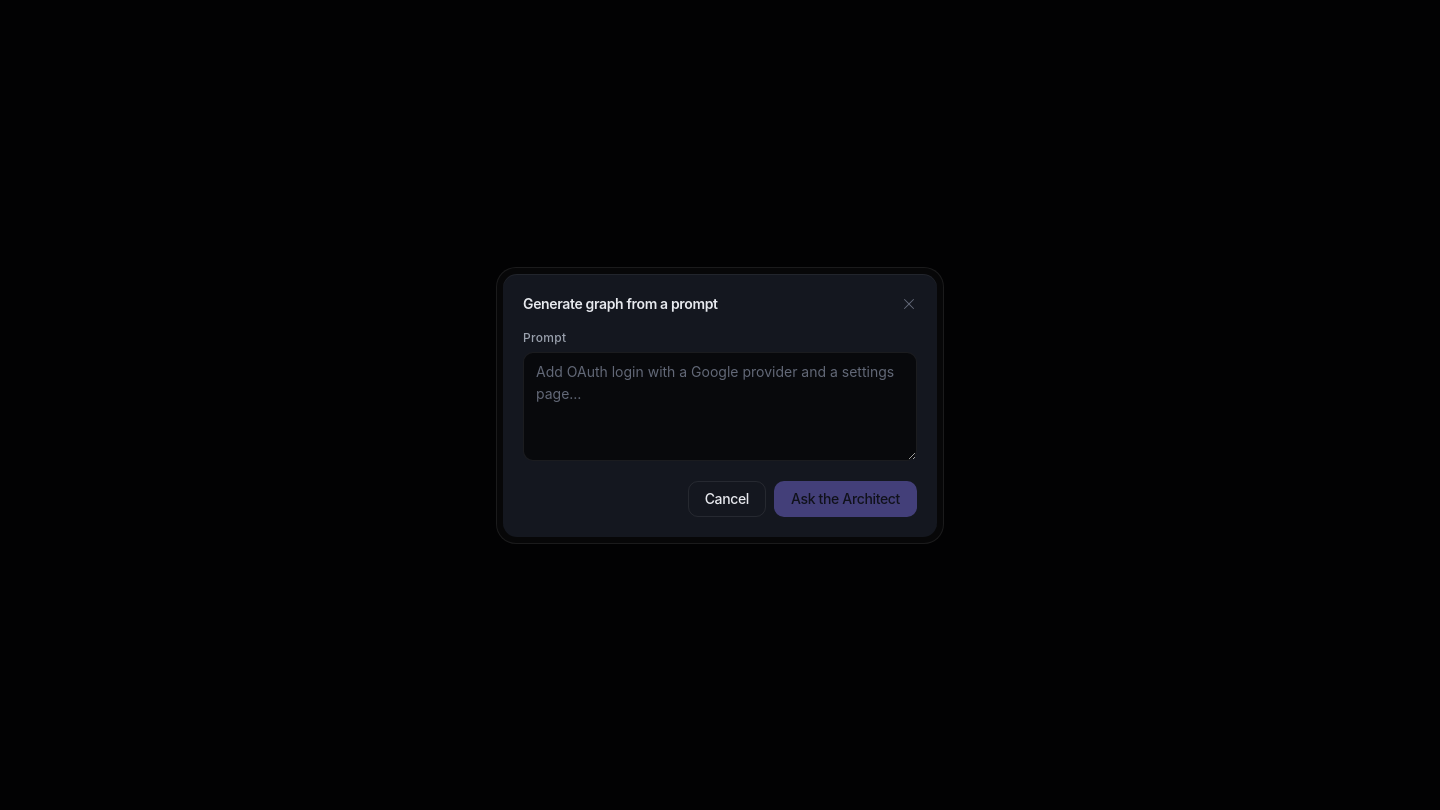
Test: PlanPanel (Socratic two-step) › on a LOCAL planner failure, surfaces the truthful local reason (NOT the Architect API text)
Type "x" into the text box with placeholder "Add OAuth login with a Google provider and a settings page…".
click(720, 406); type("x")  # box [523, 352, 917, 460]
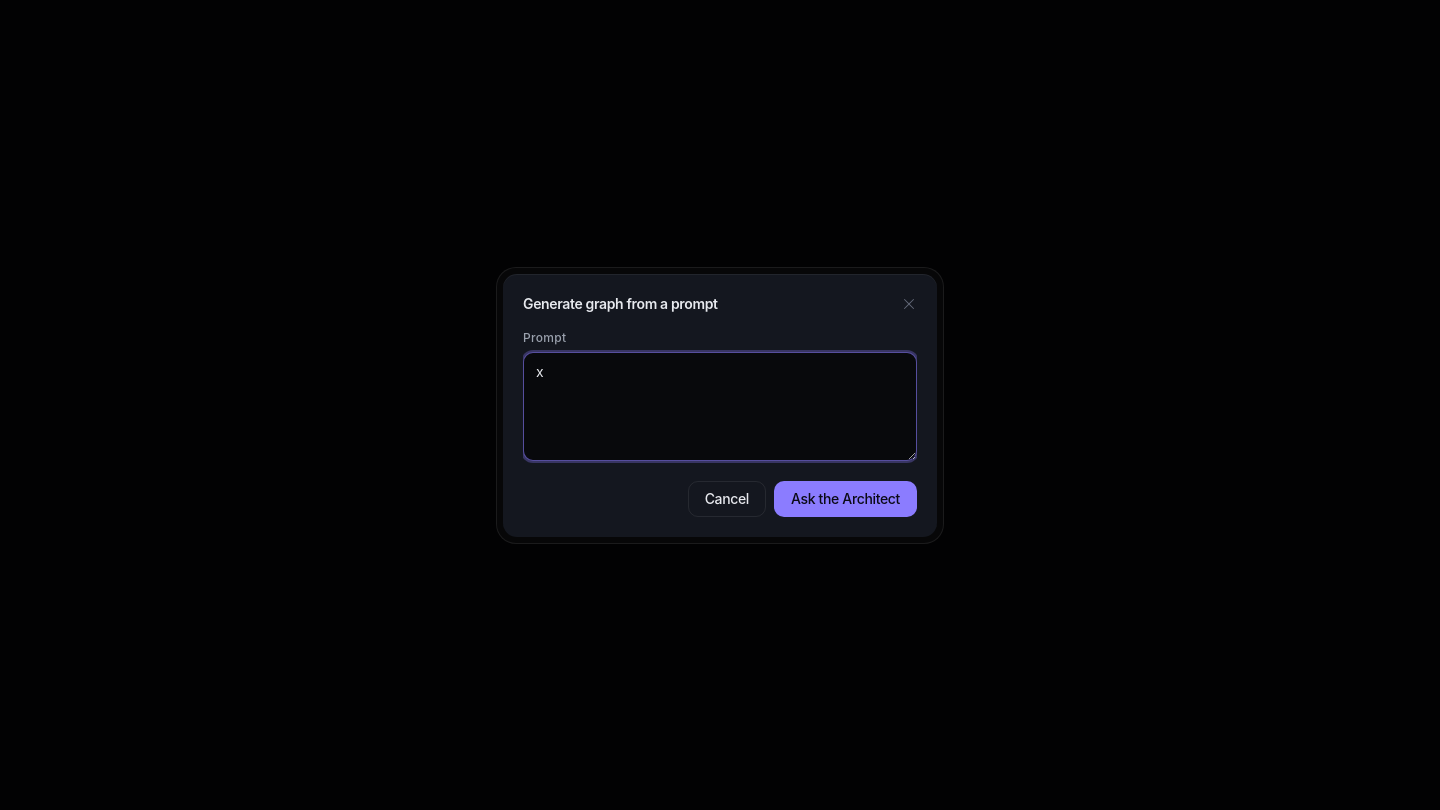
Click the button "Ask the Architect".
click(846, 498)  # box [774, 480, 917, 516]
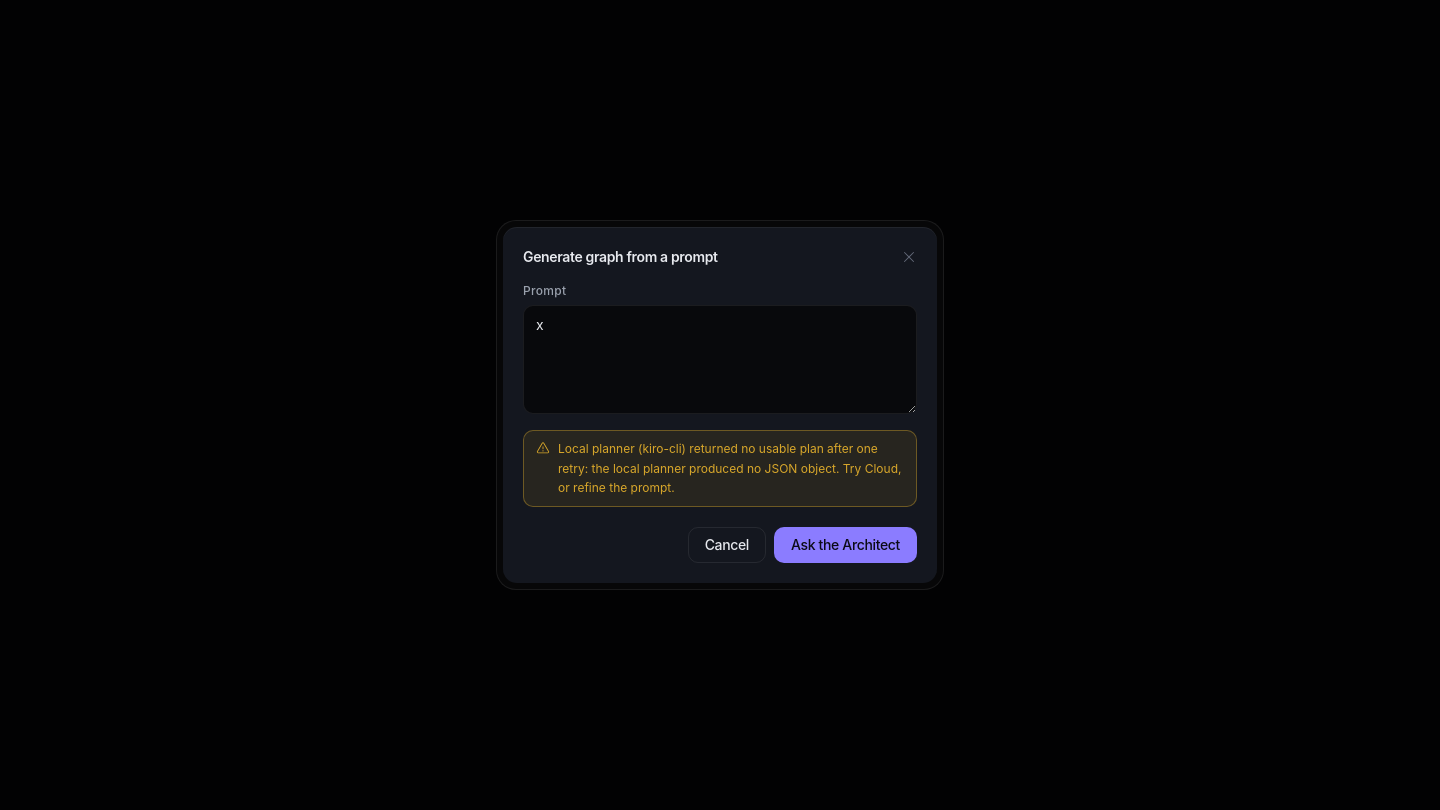
Expected: the message does not show "Architect API", [523, 430, 917, 507]
Now the message shows "Local planner", box [558, 441, 902, 495]
